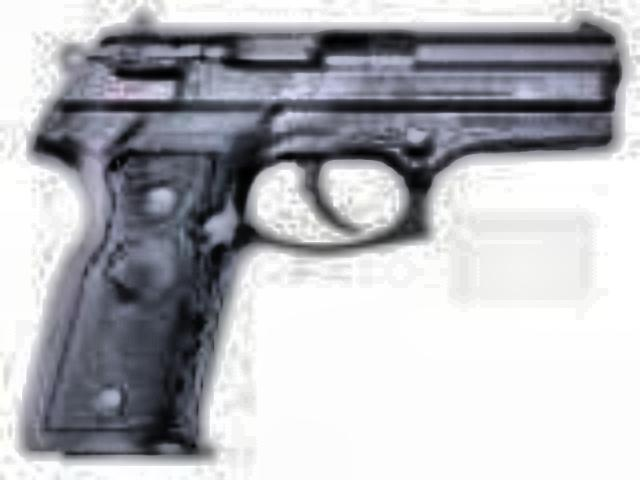pistol: (16, 8, 620, 456)
